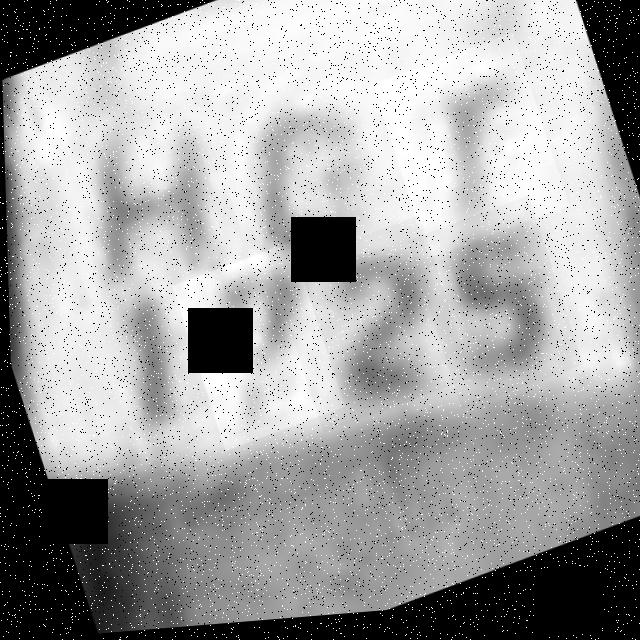2: (268, 219, 470, 440)
5: (405, 201, 581, 420)
7: (169, 243, 343, 457)
H: (55, 88, 247, 309)
T: (371, 37, 568, 267)
